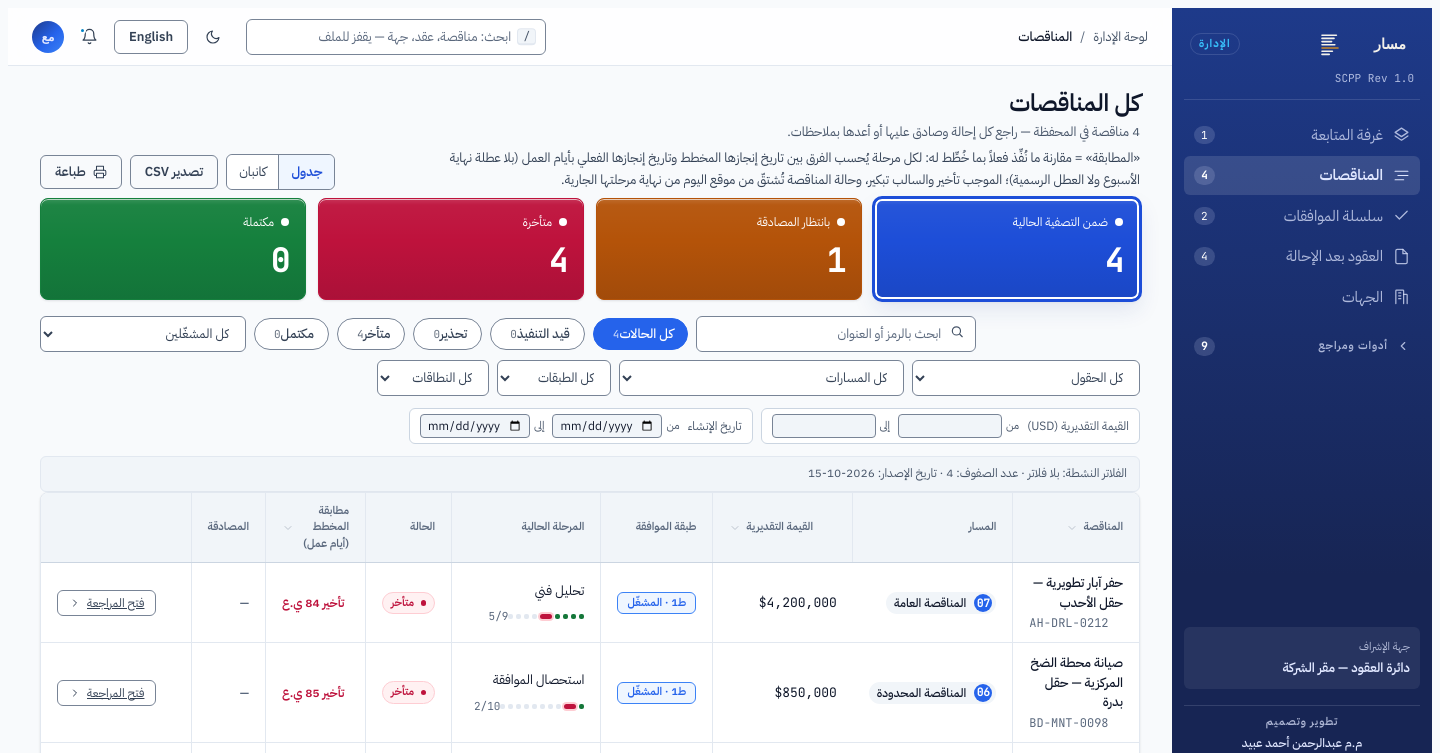
the range ends commit on blur/Enter — one deliberate act, one history entry › narrows the table on commit, so the rows and the address move together
Type "10000000" into the number field with id "atn-val-min" at {"x": 950, "y": 426}, box [898,414,1002,438]
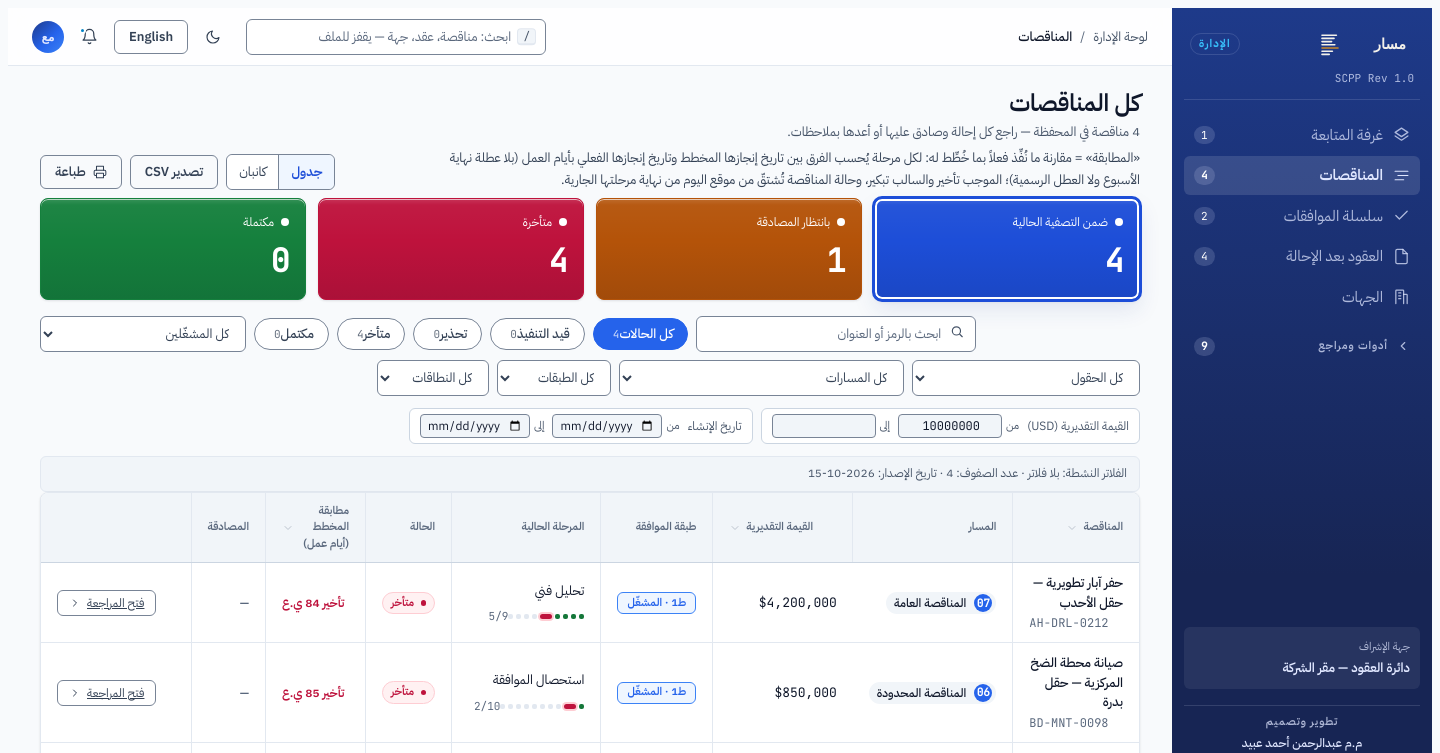
Leave the number field with id "atn-val-min", box [898,414,1002,438]
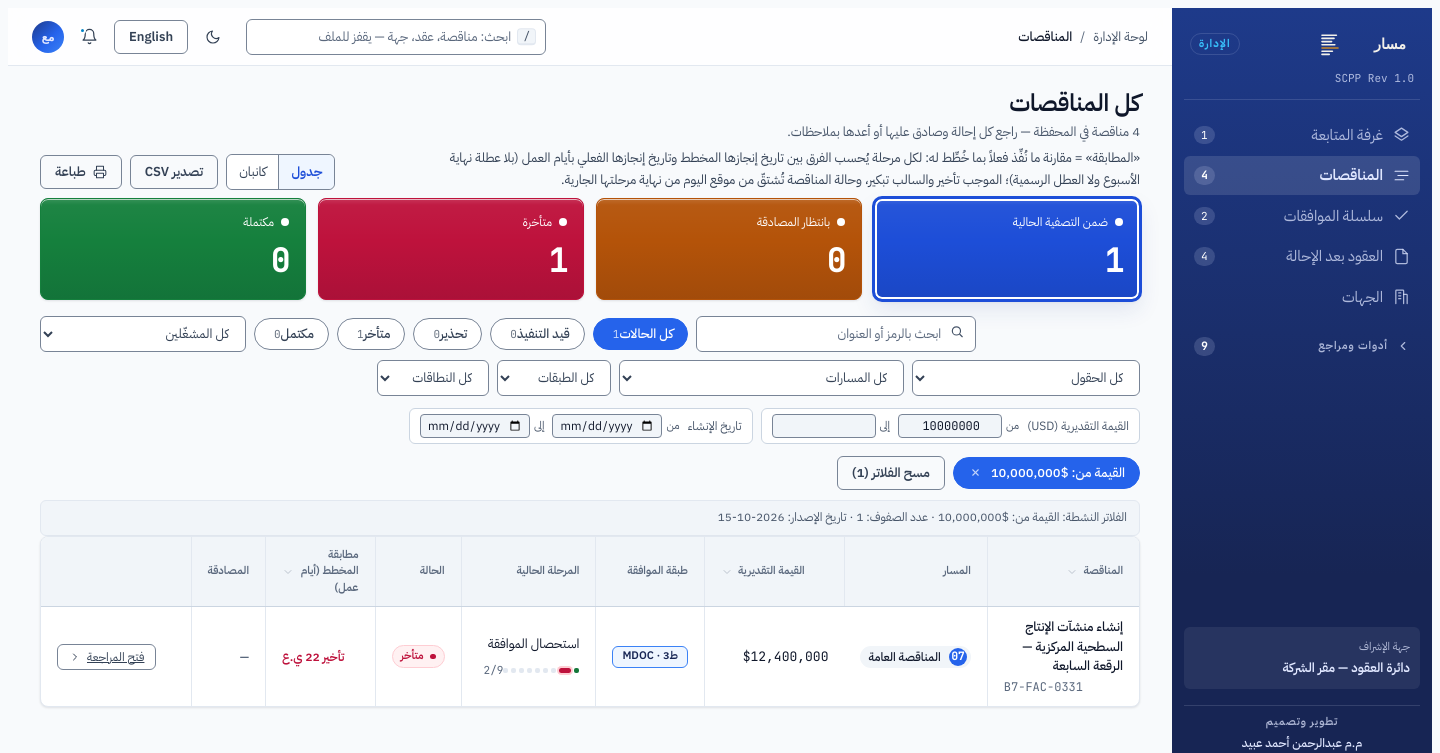
Expected: the text with class "reg-stamp" shows "عدد الصفوف: 1", [718,508,1127,526]
